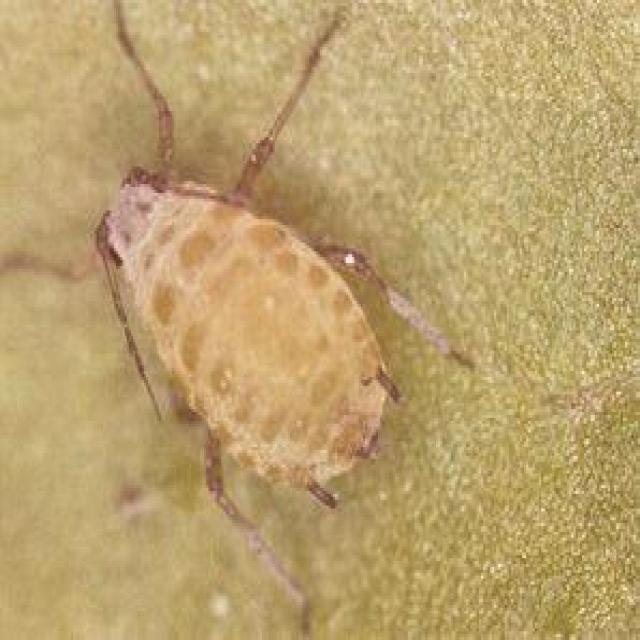Aphids: (29, 62, 495, 574)
